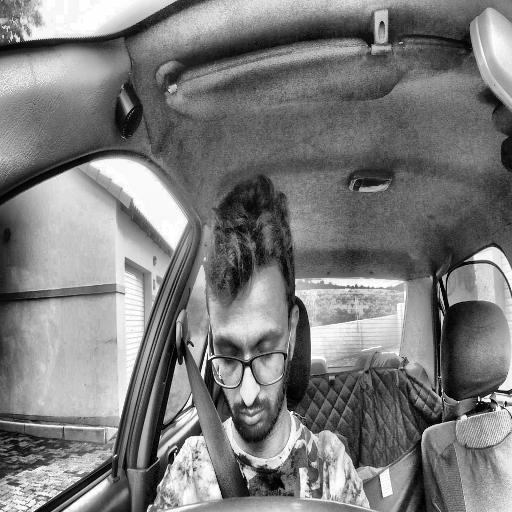drowsy: (206, 174, 298, 444)
